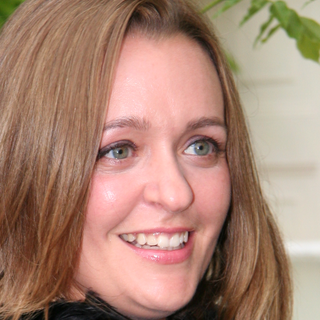eye: (174, 132, 226, 166), (90, 139, 145, 164)
